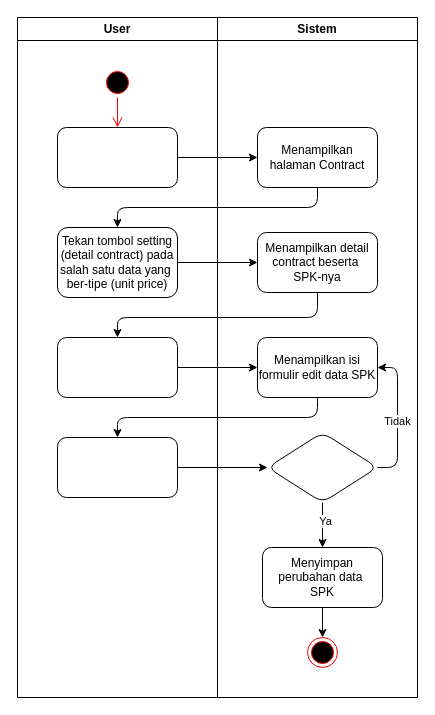
This 435x715 diagram has some shape labels left out. Each missing label, with the centre of its shape:
Edit data SPK: (x=117, y=467)
Memilih tombol edit (icon pen) pada salah satu data SPK: (x=117, y=367)
Pilih fitur contract: (x=117, y=157)
Validasi Data: (x=322, y=467)
